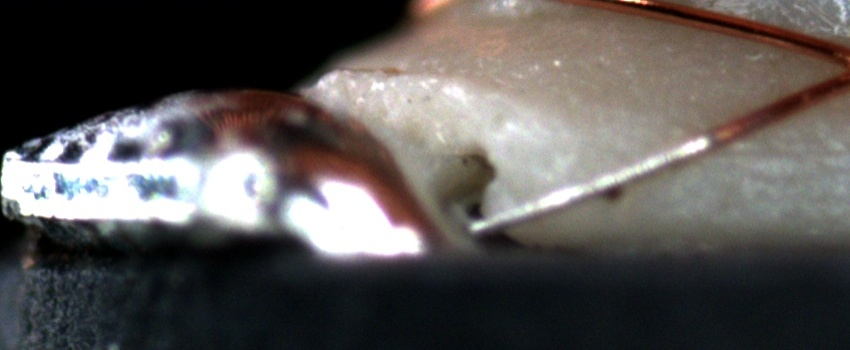DL: (710, 118, 850, 179)
TS: (467, 132, 716, 236)
